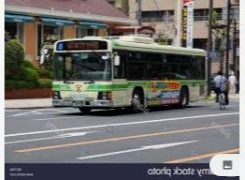bus: (53, 36, 207, 115)
